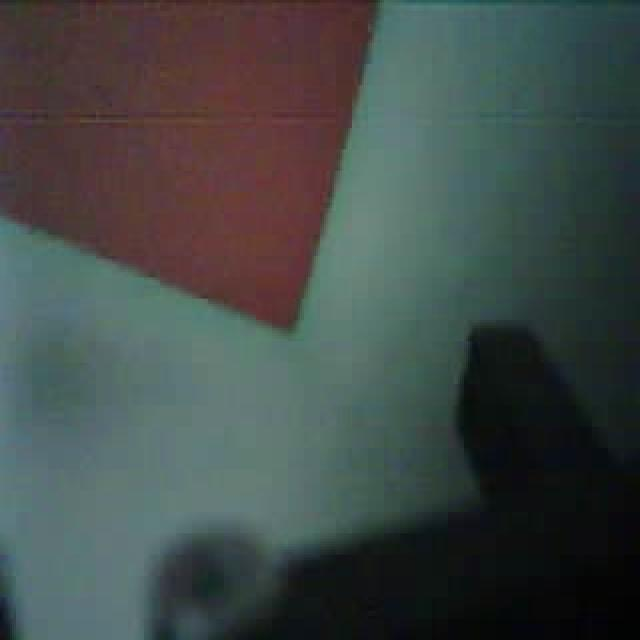red_box: (1, 0, 393, 366)
